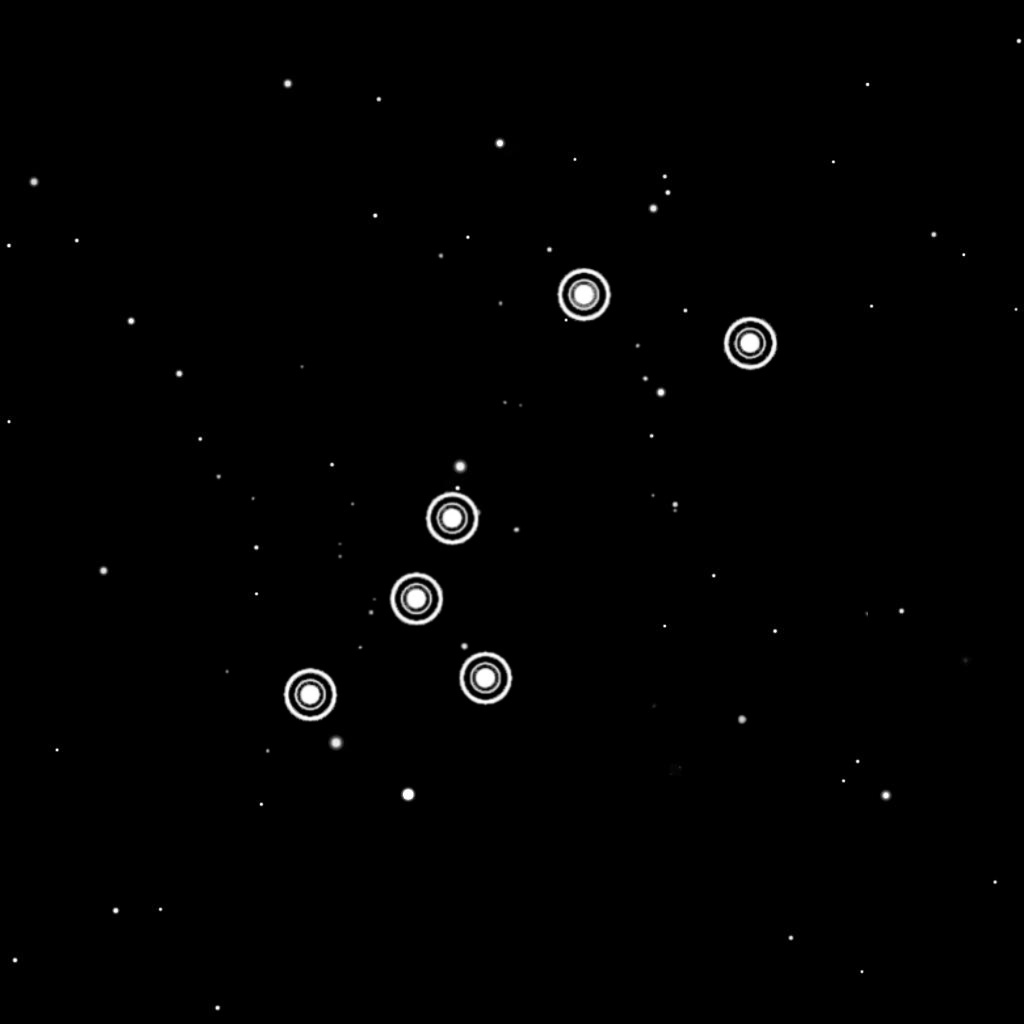canis_major: (269, 253, 785, 740)
